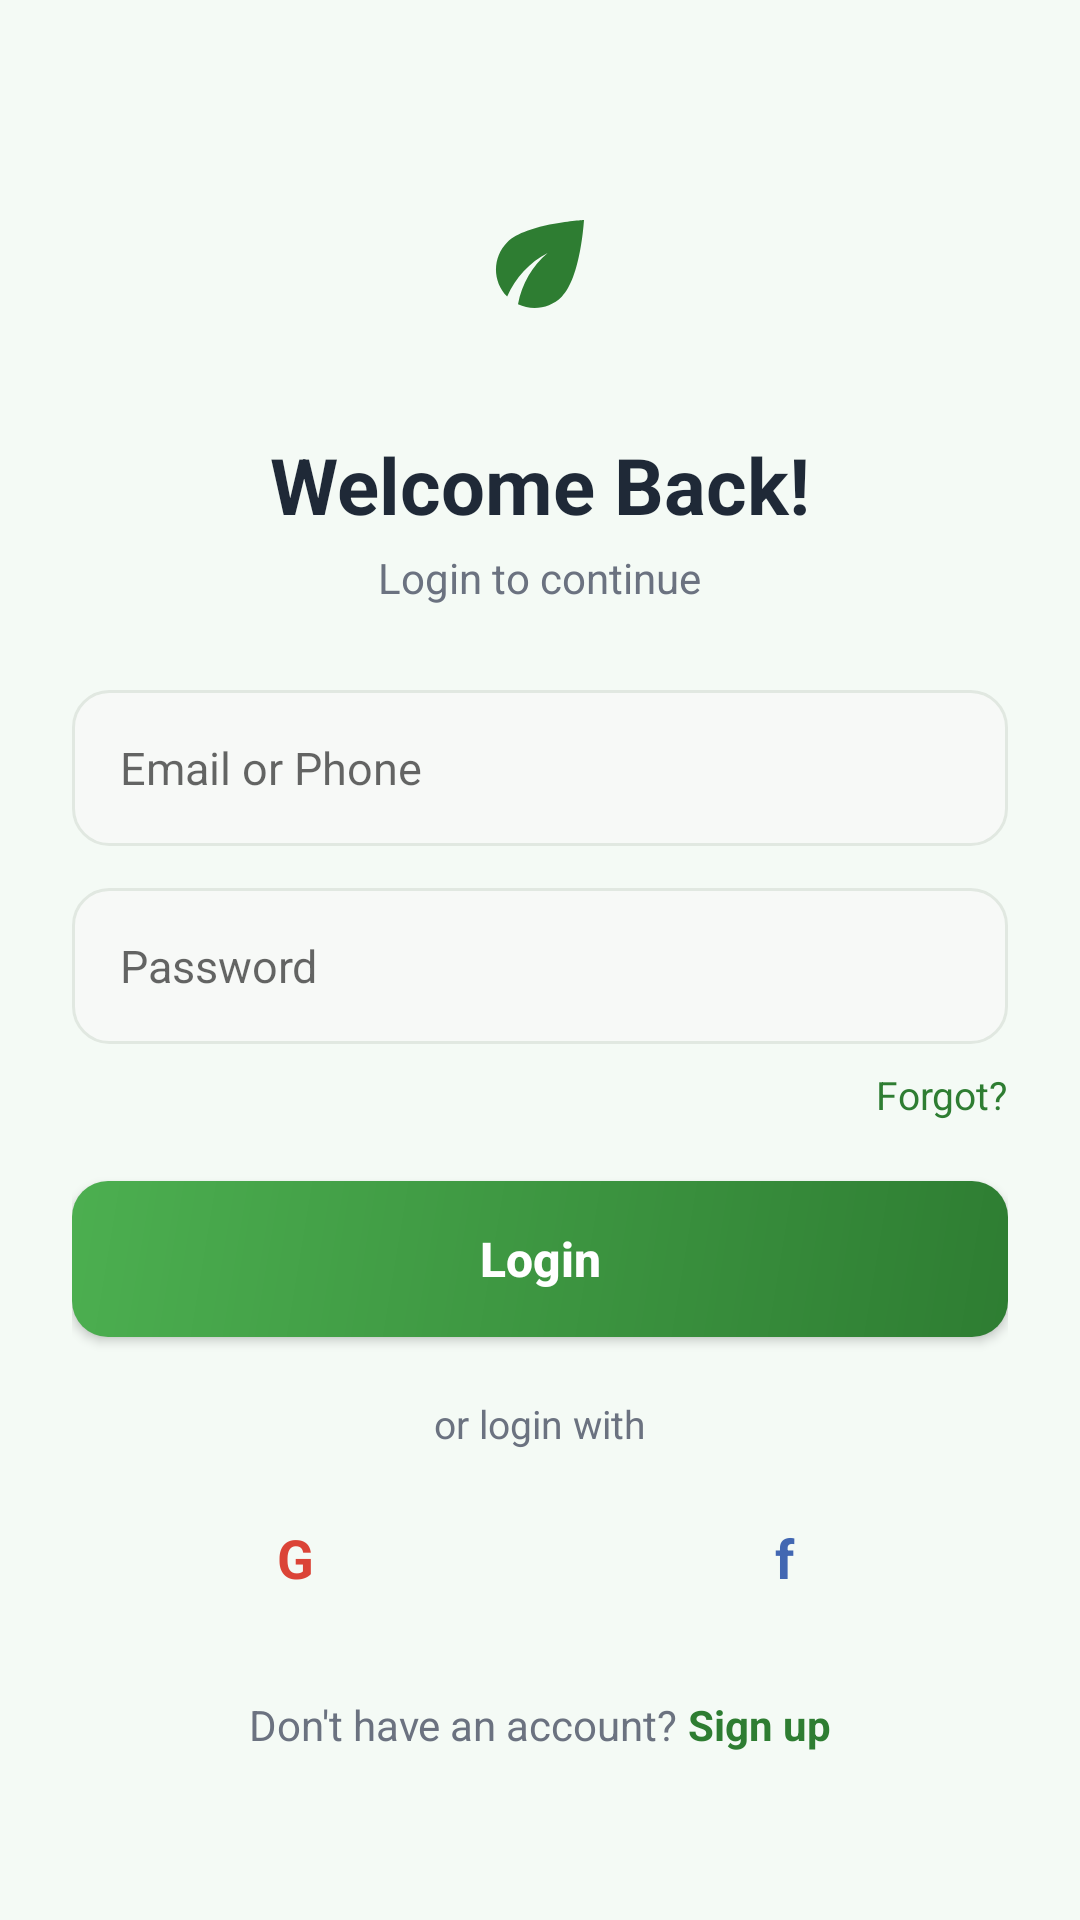

Icons on this 1080 x 1920 Android screen, each with the point to tap as (x=x, y=y):
leaf: (x=540, y=264)
